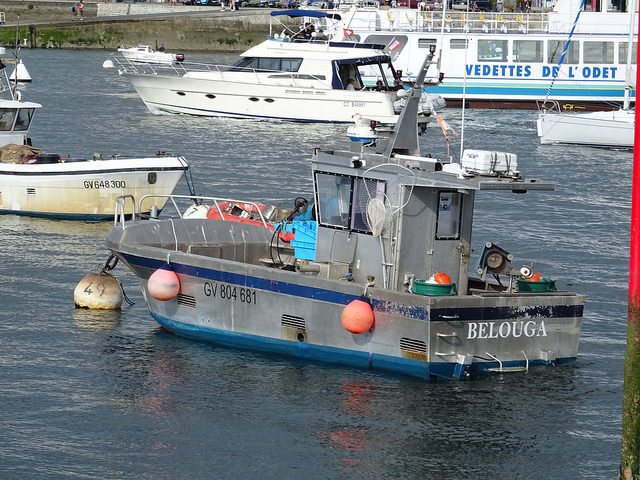boat: (121, 19, 431, 139), (115, 35, 187, 71)
fishing_boat: (115, 79, 582, 382)
